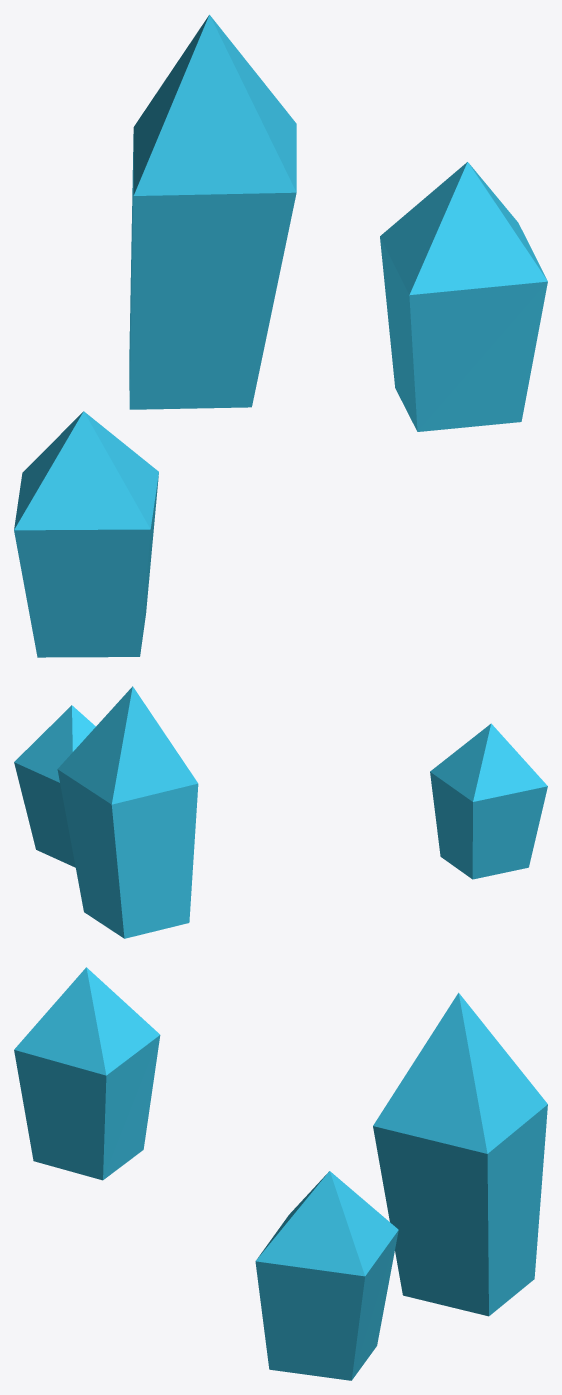
File: crystal_aqua_2.obj
3 views of the same model, one above another, from view 1: azimuth 30°, elevation 25°; view 2: azimuth 150°, elevation 25°; view 3: azimuth 270°, elevation 25° (orthographic). The views are drawn at different scales.
Parts seen in each view (by area): view 1: s016, s014, s015; view 2: s016, s015, s014; view 3: s016, s015, s014.
Part boxes in pixels (bbox=[...]): s016: bbox=[129, 14, 296, 409]; s014: bbox=[380, 162, 547, 431]; s015: bbox=[14, 411, 158, 657]; s016: bbox=[57, 686, 198, 938]; s015: bbox=[430, 723, 547, 879]; s014: bbox=[14, 705, 95, 867]; s016: bbox=[373, 992, 547, 1316]; s015: bbox=[14, 967, 160, 1180]; s014: bbox=[255, 1171, 398, 1380].
Bounding box in the file's own units: 0.8279 × 0.4254 × 0.6865.
